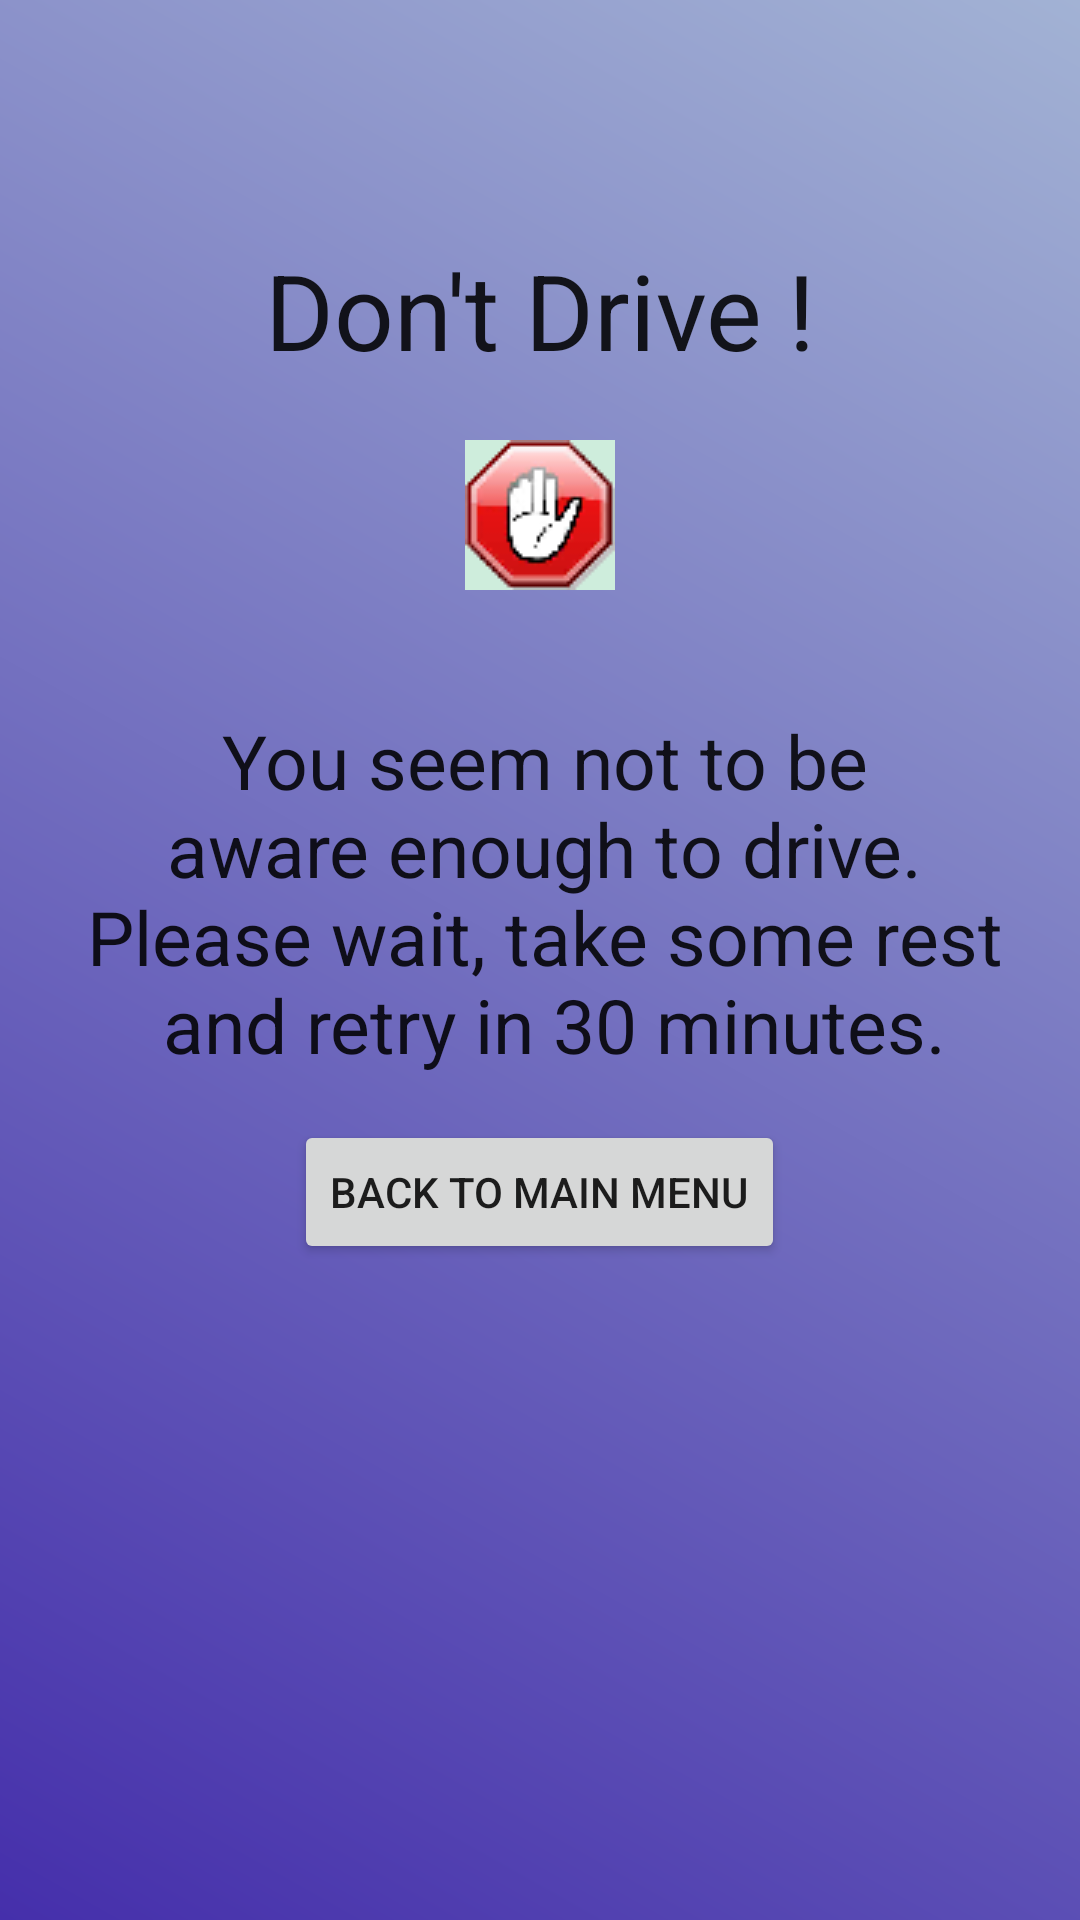

Icon click points for this 1080*1920 phone screenshot, format (x=x, y=y):
stop: (x=540, y=515)
